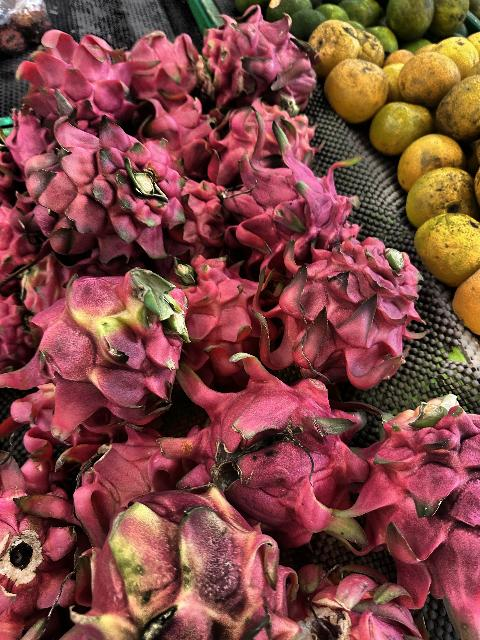buah-naga-belum-matang: (73, 490, 300, 640), (24, 274, 188, 432)
buah-naga-matang: (154, 356, 376, 556), (352, 400, 480, 636), (254, 238, 426, 382), (29, 109, 183, 254), (219, 138, 367, 252), (0, 448, 78, 640), (194, 8, 332, 104), (9, 29, 135, 121), (169, 254, 259, 374), (62, 434, 176, 524), (290, 560, 414, 640), (202, 94, 312, 174), (114, 28, 206, 100), (133, 99, 217, 158), (172, 164, 226, 253)
